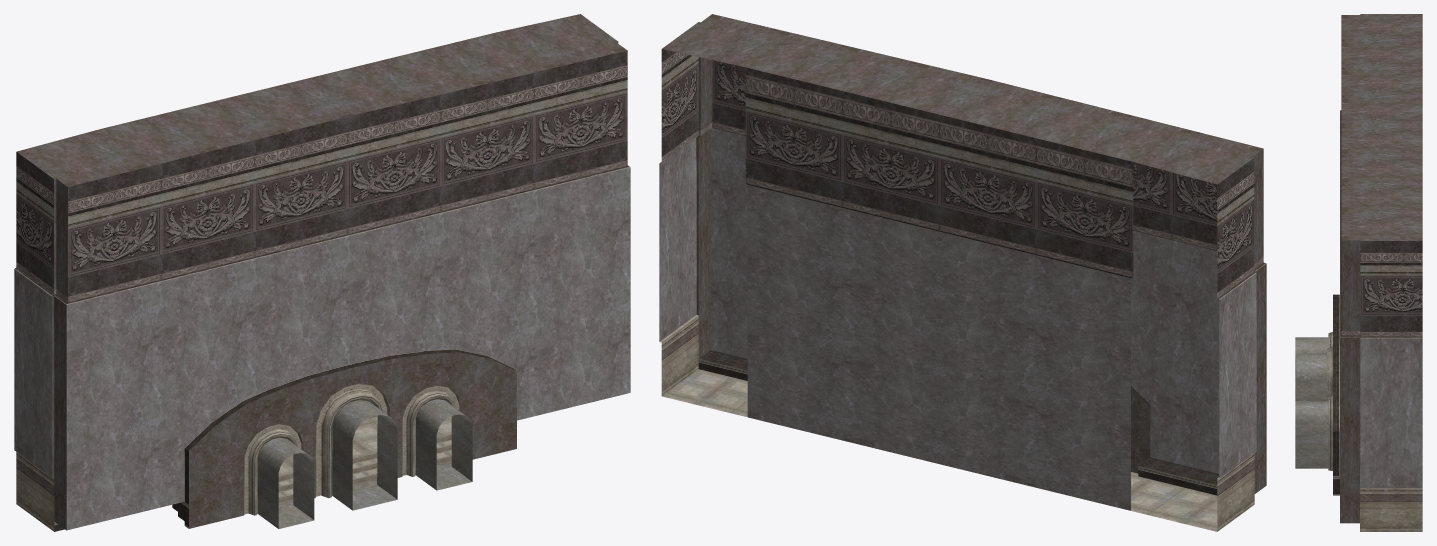
File: mun_corl_capitol_s01_r1_entrance1_r1_entrance.fbx
The picture shows the model from 3 angles, left to right: view 1: azimuth 30°, elevation 25°; view 2: azimuth 150°, elevation 25°; view 3: azimuth 270°, elevation 25°; orthographic projection. The views are drawn at different scales.
Visible parts, largest first — view 1: mesh_node; view 2: mesh_node; view 3: mesh_node.
Boxes of the visible parts, x1,y1,x2,y2 form: mesh_node: [14, 14, 630, 531]; mesh_node: [659, 14, 1266, 531]; mesh_node: [1295, 14, 1422, 531].
Size of the model in its own units: 26 by 16.1 by 6.1.
